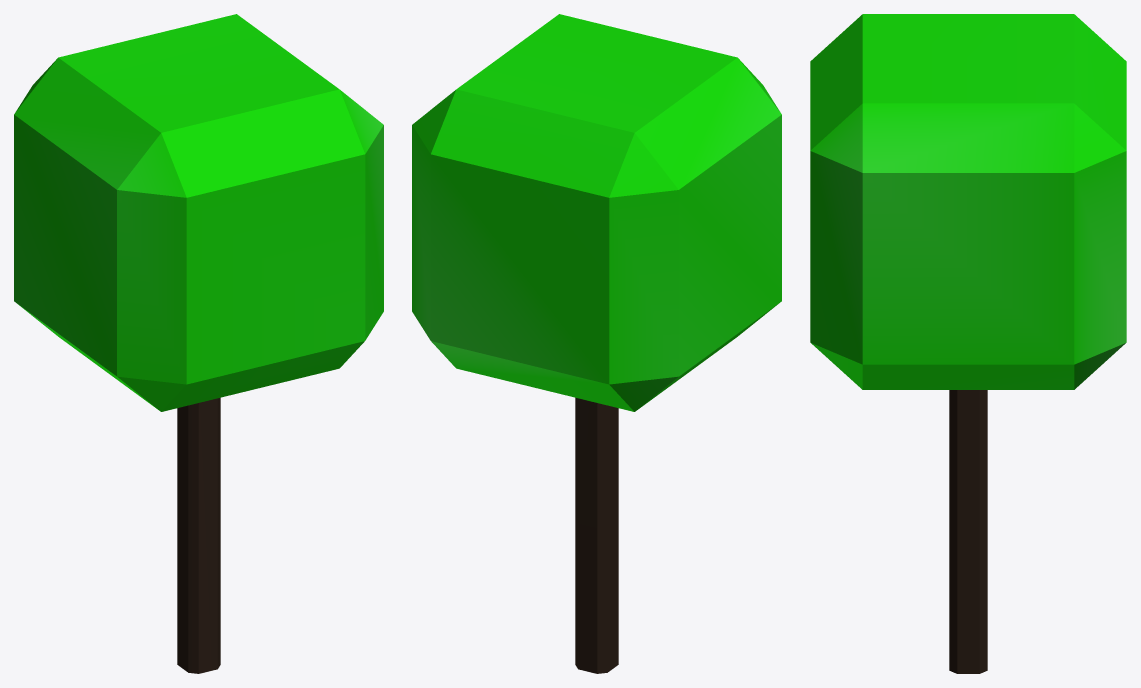
Rendered from arvorefoda.fbx.
3 renders of one model, left to right at view 1: azimuth 30°, elevation 25°; view 2: azimuth 150°, elevation 25°; view 3: azimuth 270°, elevation 25°, orthographic. The views are drawn at different scales.
Parts seen in each view (by area): view 1: Cube; view 2: Cube; view 3: Cube.
Boxes of the visible parts, x1,y1,x2,y2 form: Cube: (14,14,383,673); Cube: (412,14,781,673); Cube: (810,14,1126,673).
Size of the model in its own units: 323 by 685 by 323.
